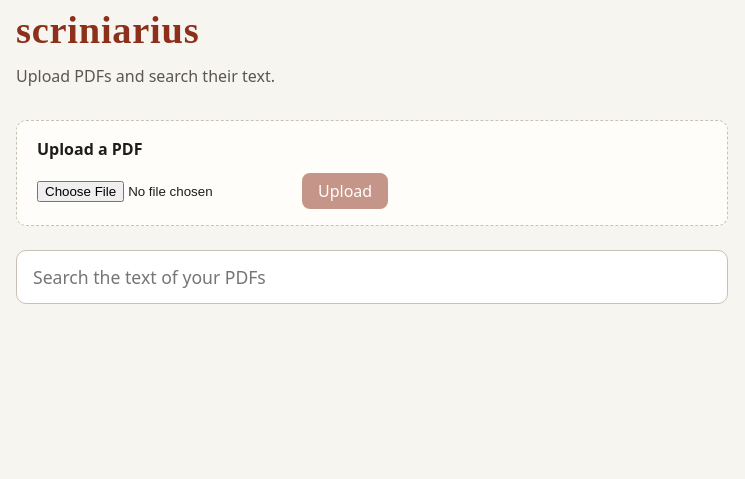
shows the start of the text, and Untitled, for a hit with no highlight and no title
Type "word" into the search field labelled "Search" at (372, 277), box [16,250,728,304]
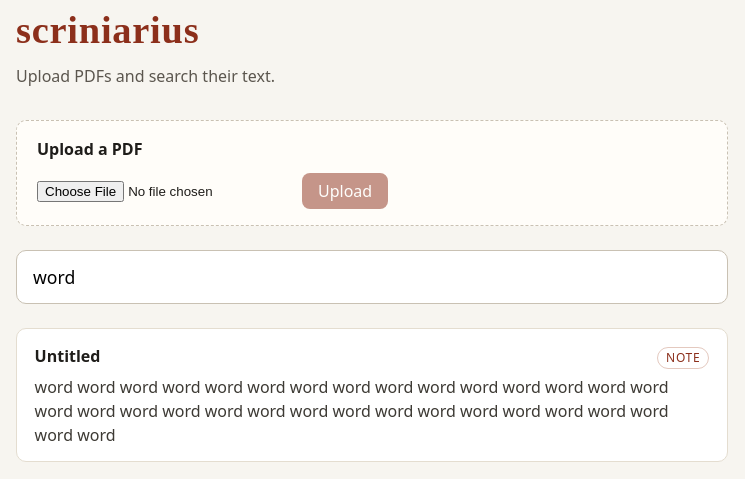
Now the text "Untitled" is shown, box [35,344,100,368]
